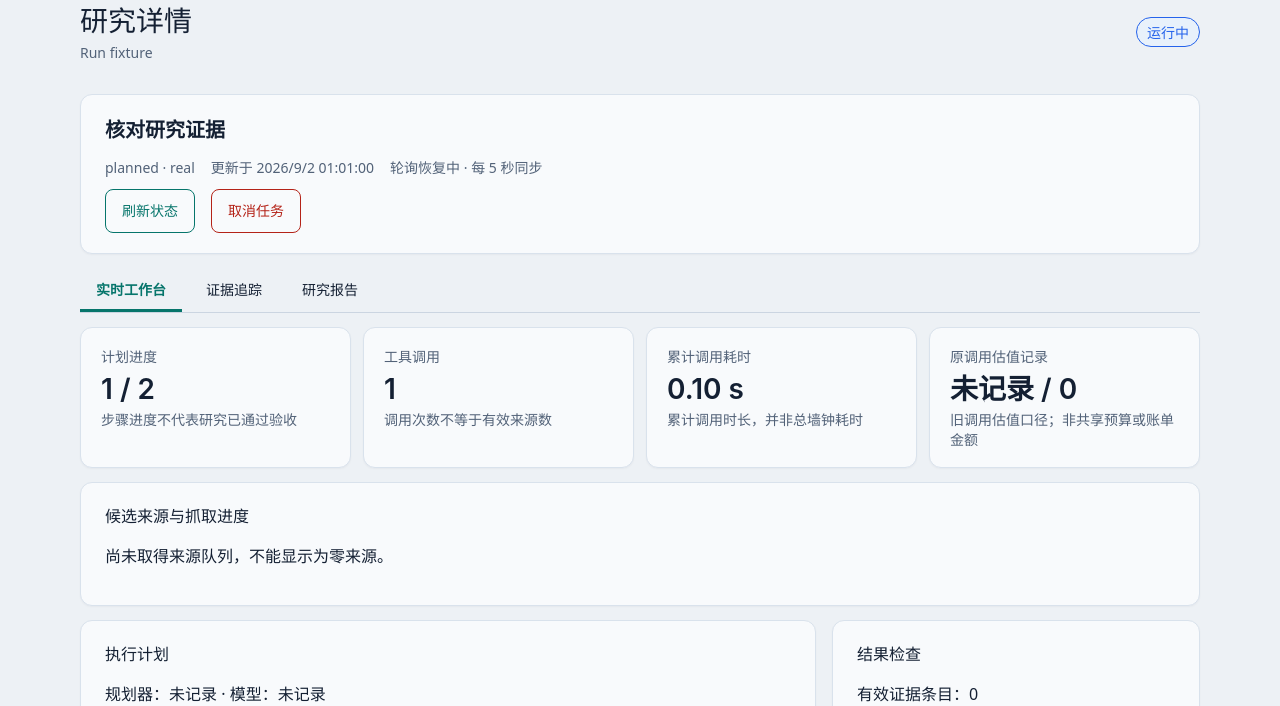
Test: guards double cancellation and preserves visible cancelled state
Click the button "取消任务".
click(256, 211)  # box top-left (211, 189), bottom-right (301, 233)
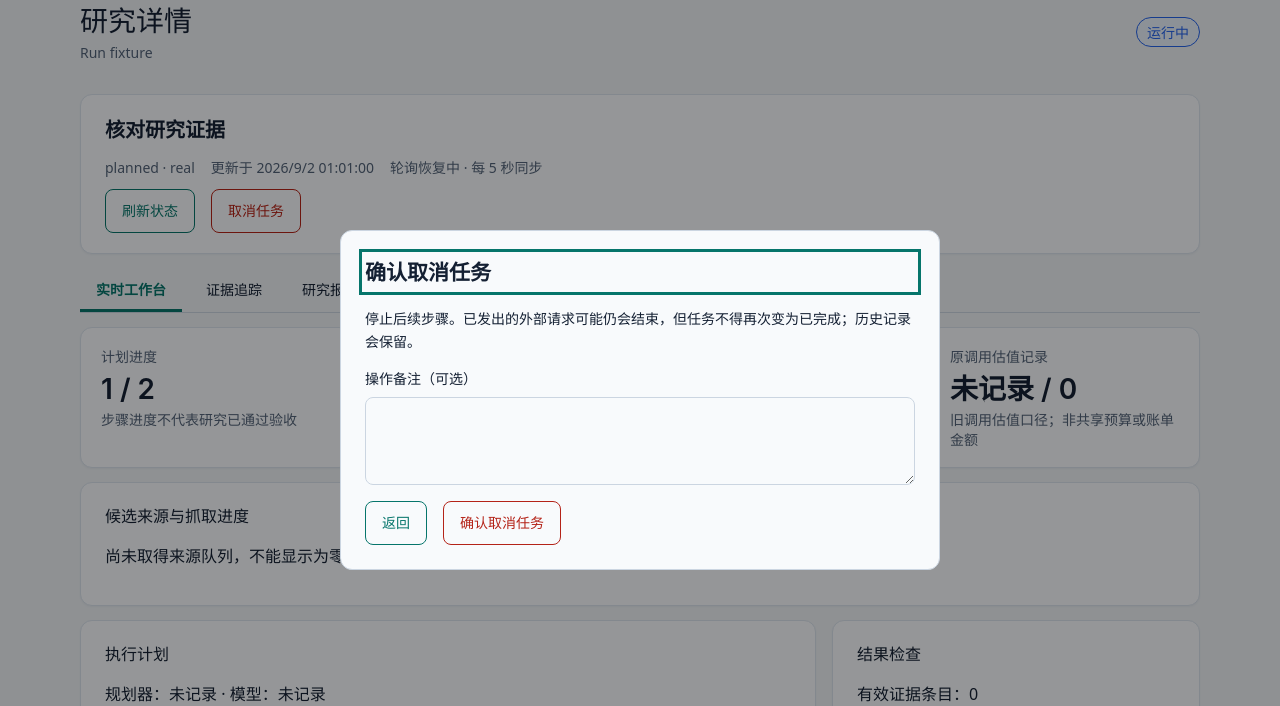
Click the button "确认取消任务".
click(502, 523)  # box top-left (443, 501), bottom-right (561, 545)
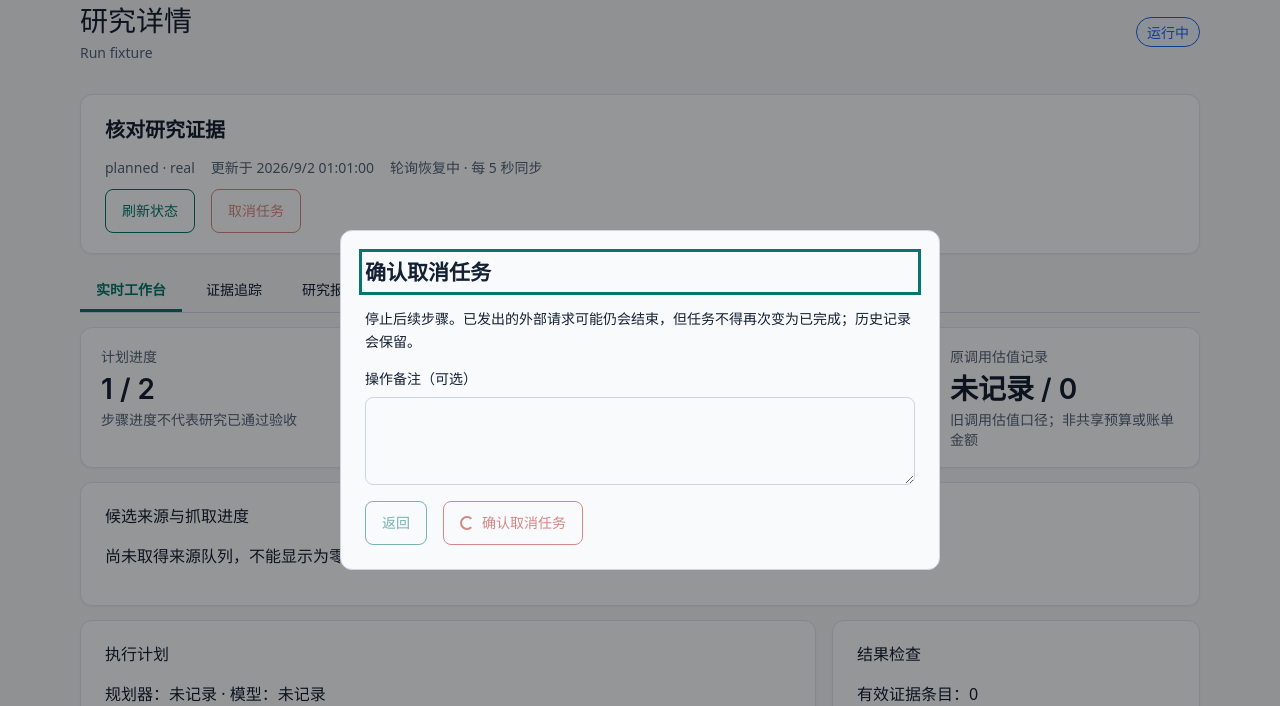
Click the button "确认取消任务".
click(513, 523)  # box top-left (443, 501), bottom-right (583, 545)
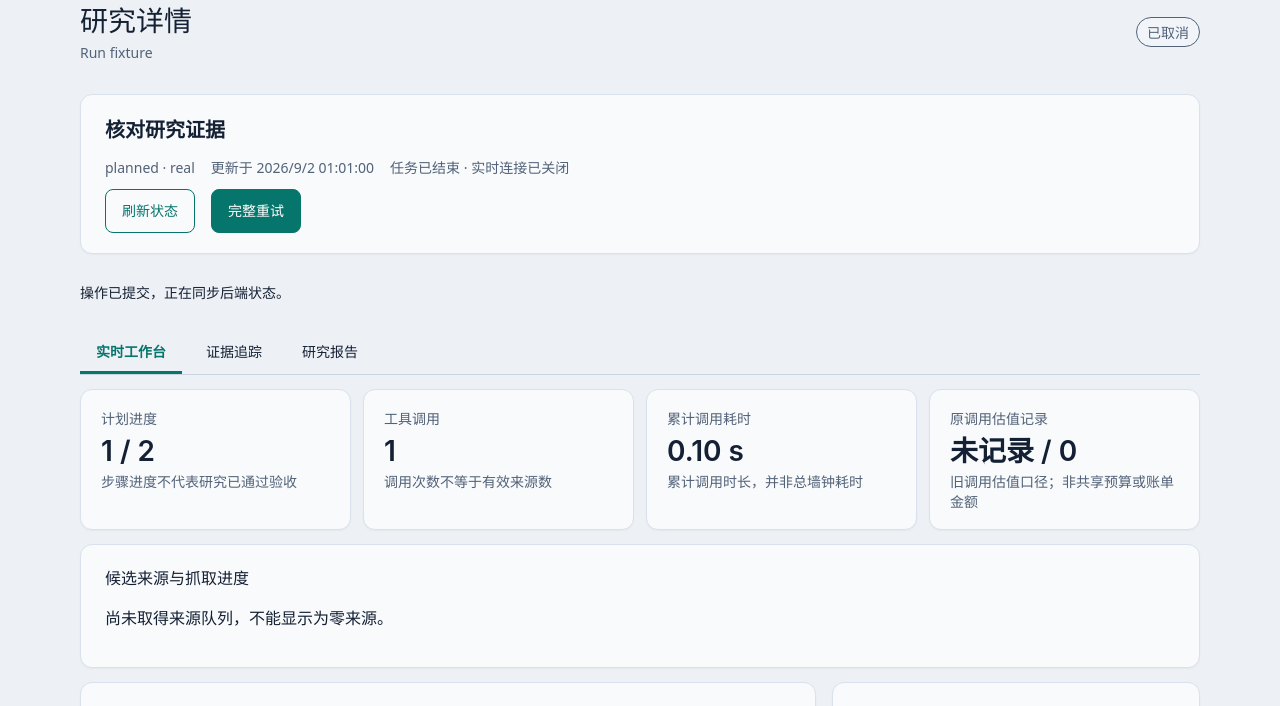
Expected: the text "已取消" is shown, top-left (1136, 17), bottom-right (1200, 47)
Expected: the button "完整重试" is enabled, top-left (211, 189), bottom-right (301, 233)
